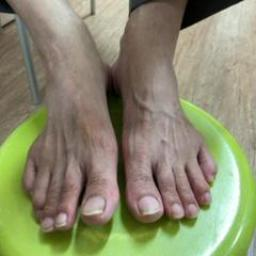Dorsal View -Both Feet-: (7, 17, 239, 252)
